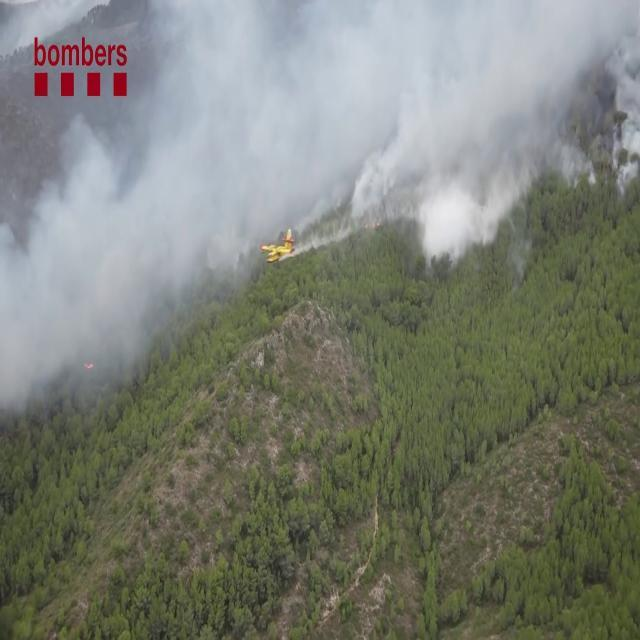Smoke: (61, 0, 638, 269), (0, 98, 225, 414)
